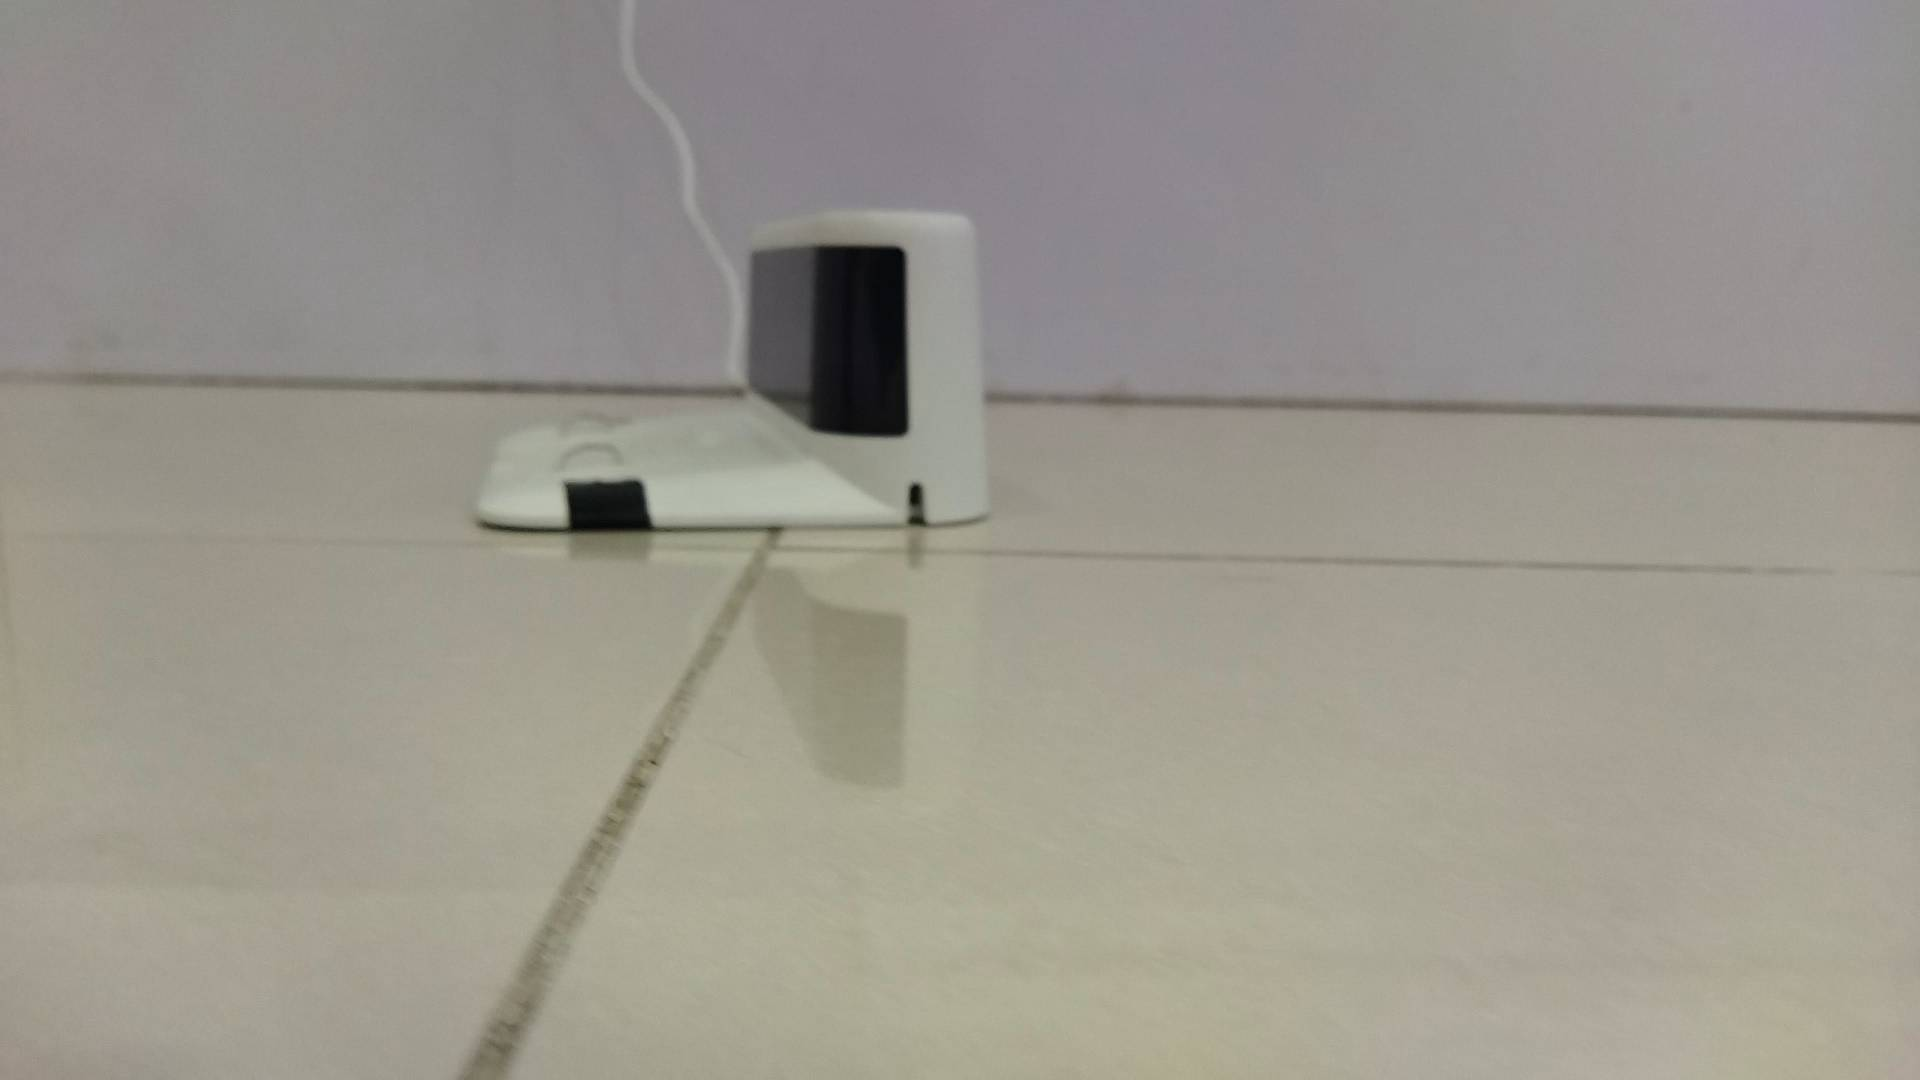recharge seat: (473, 211, 998, 531)
